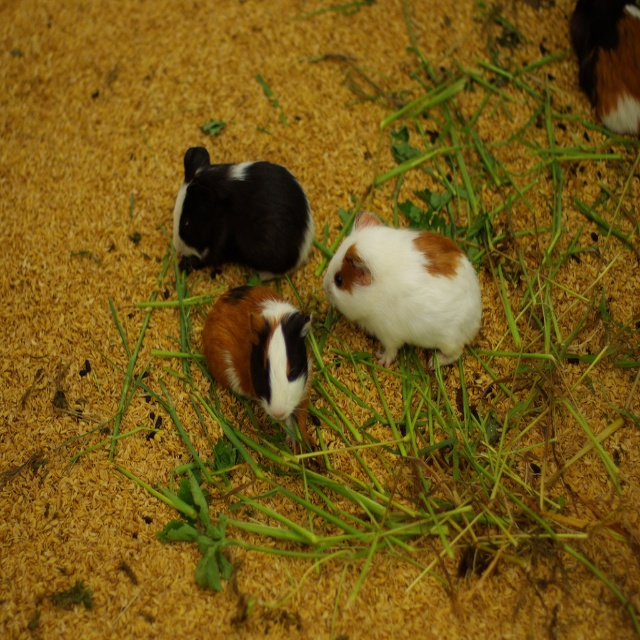Hamster: (322, 210, 483, 367), (202, 290, 322, 467), (171, 145, 316, 278)
